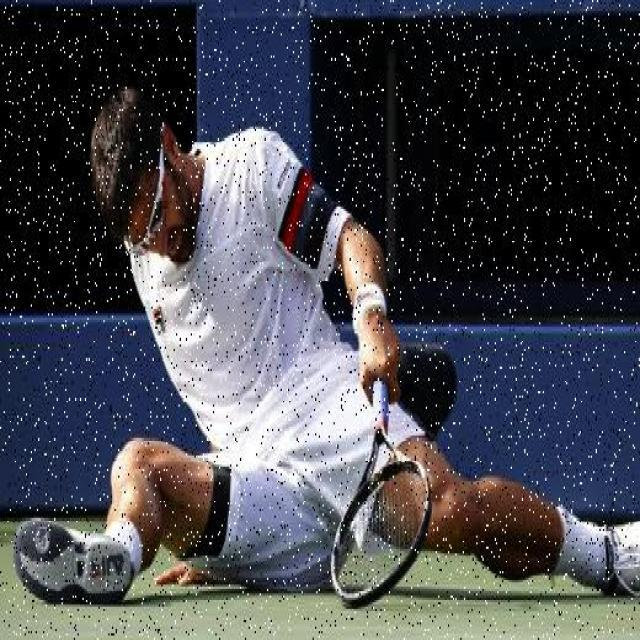fall: (69, 104, 636, 594)
